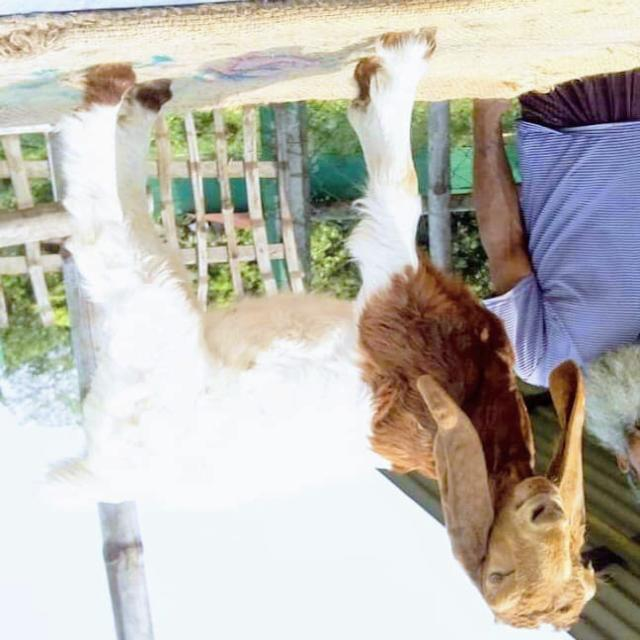Goat: (43, 27, 616, 634)
